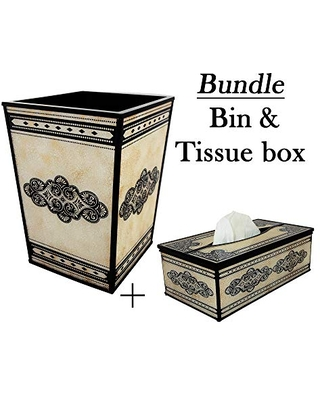Tissue: (212, 210, 261, 248)
